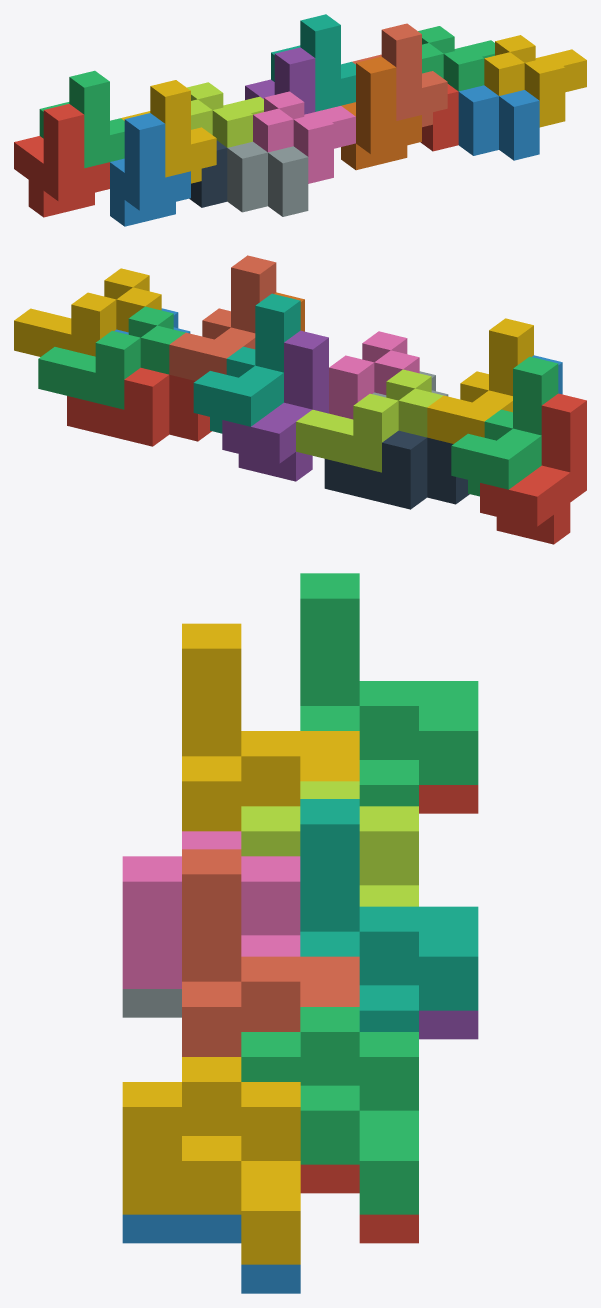
The model's file is tiling.obj.
3 renders of one model, top to bottom at view 1: azimuth 30°, elevation 25°; view 2: azimuth 150°, elevation 25°; view 3: azimuth 270°, elevation 25°, orthographic. The views are drawn at different scales.
Visible parts, largest first — view 1: copy_1_domain_1, copy_1_domain_2, copy_1_domain_6, copy_2_domain_8, copy_2_domain_4, copy_2_domain_2, copy_2_domain_6, copy_1_domain_8, copy_1_domain_4, copy_1_domain_3, copy_1_domain_7, copy_2_domain_7 (+4 smaller); view 2: copy_1_domain_1, copy_1_domain_5, copy_1_domain_7, copy_1_domain_3, copy_2_domain_7, copy_2_domain_3, copy_2_domain_1, copy_2_domain_5, copy_2_domain_8, copy_1_domain_8, copy_1_domain_4, copy_2_domain_4; view 3: copy_2_domain_8, copy_1_domain_7, copy_2_domain_7, copy_1_domain_3, copy_1_domain_4, copy_1_domain_8, copy_2_domain_4, copy_2_domain_3, copy_2_domain_6, copy_2_domain_5, copy_1_domain_5, copy_1_domain_1 (+1 smaller).
Part boxes in pixels (box(x1,y1,x2,y2)): copy_1_domain_1: box(14, 104, 109, 217); copy_1_domain_2: box(110, 113, 190, 226); copy_1_domain_6: box(341, 56, 421, 170); copy_2_domain_8: box(484, 35, 586, 127); copy_2_domain_4: box(253, 91, 355, 183); copy_2_domain_2: box(227, 141, 308, 216); copy_2_domain_6: box(458, 85, 539, 160); copy_1_domain_8: box(352, 23, 447, 127); copy_1_domain_4: box(121, 80, 216, 183); copy_1_domain_3: box(39, 70, 124, 168); copy_1_domain_7: box(271, 14, 355, 111); copy_2_domain_7: box(418, 26, 494, 91); copy_1_domain_1: box(480, 393, 586, 544); copy_1_domain_5: box(222, 330, 328, 481); copy_1_domain_7: box(193, 293, 300, 433); copy_1_domain_3: box(451, 356, 558, 496); copy_2_domain_7: box(38, 306, 185, 409); copy_2_domain_3: box(296, 369, 443, 472); copy_2_domain_1: box(324, 430, 469, 509); copy_2_domain_5: box(67, 367, 211, 446); copy_2_domain_8: box(14, 268, 161, 356); copy_1_domain_8: box(169, 255, 276, 380); copy_1_domain_4: box(427, 318, 533, 443); copy_2_domain_4: box(329, 331, 419, 419); copy_2_domain_8: box(122, 1057, 300, 1264); copy_1_domain_7: box(300, 799, 478, 1031); copy_2_domain_7: box(241, 1007, 418, 1214); copy_1_domain_3: box(300, 573, 478, 806); copy_1_domain_4: box(182, 623, 359, 831); copy_1_domain_8: box(182, 849, 359, 1056); copy_2_domain_4: box(122, 831, 300, 988); copy_2_domain_3: box(241, 781, 418, 906); copy_2_domain_6: box(122, 1214, 300, 1293); copy_2_domain_5: box(300, 1164, 418, 1243); copy_1_domain_5: box(419, 1010, 478, 1039); copy_1_domain_1: box(419, 785, 478, 813).
Bounding box in the file's own units: 20 × 5 × 6.
